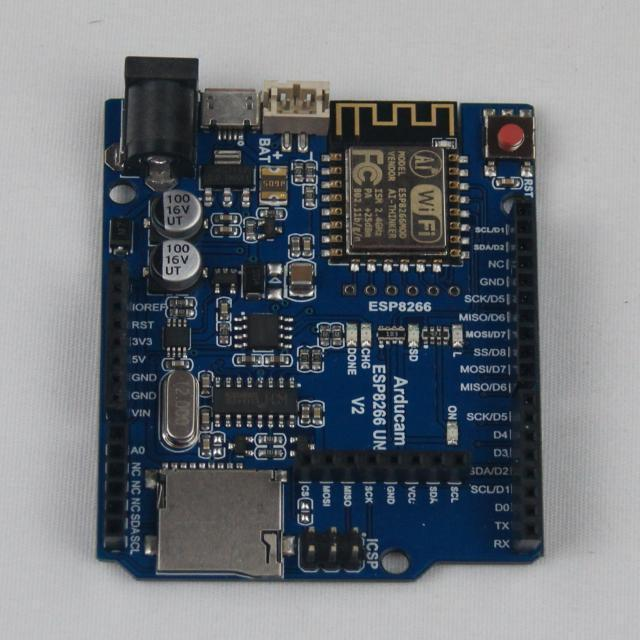Arduino Uno Camera Shield: (99, 58, 544, 581)
